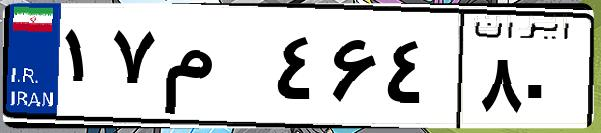0: (525, 38, 570, 115)
1: (57, 26, 110, 100)
4: (270, 28, 330, 110), (385, 28, 445, 110)
6: (330, 28, 385, 110)
7: (110, 28, 158, 98)
8: (475, 38, 525, 113)
م: (158, 20, 270, 120)
